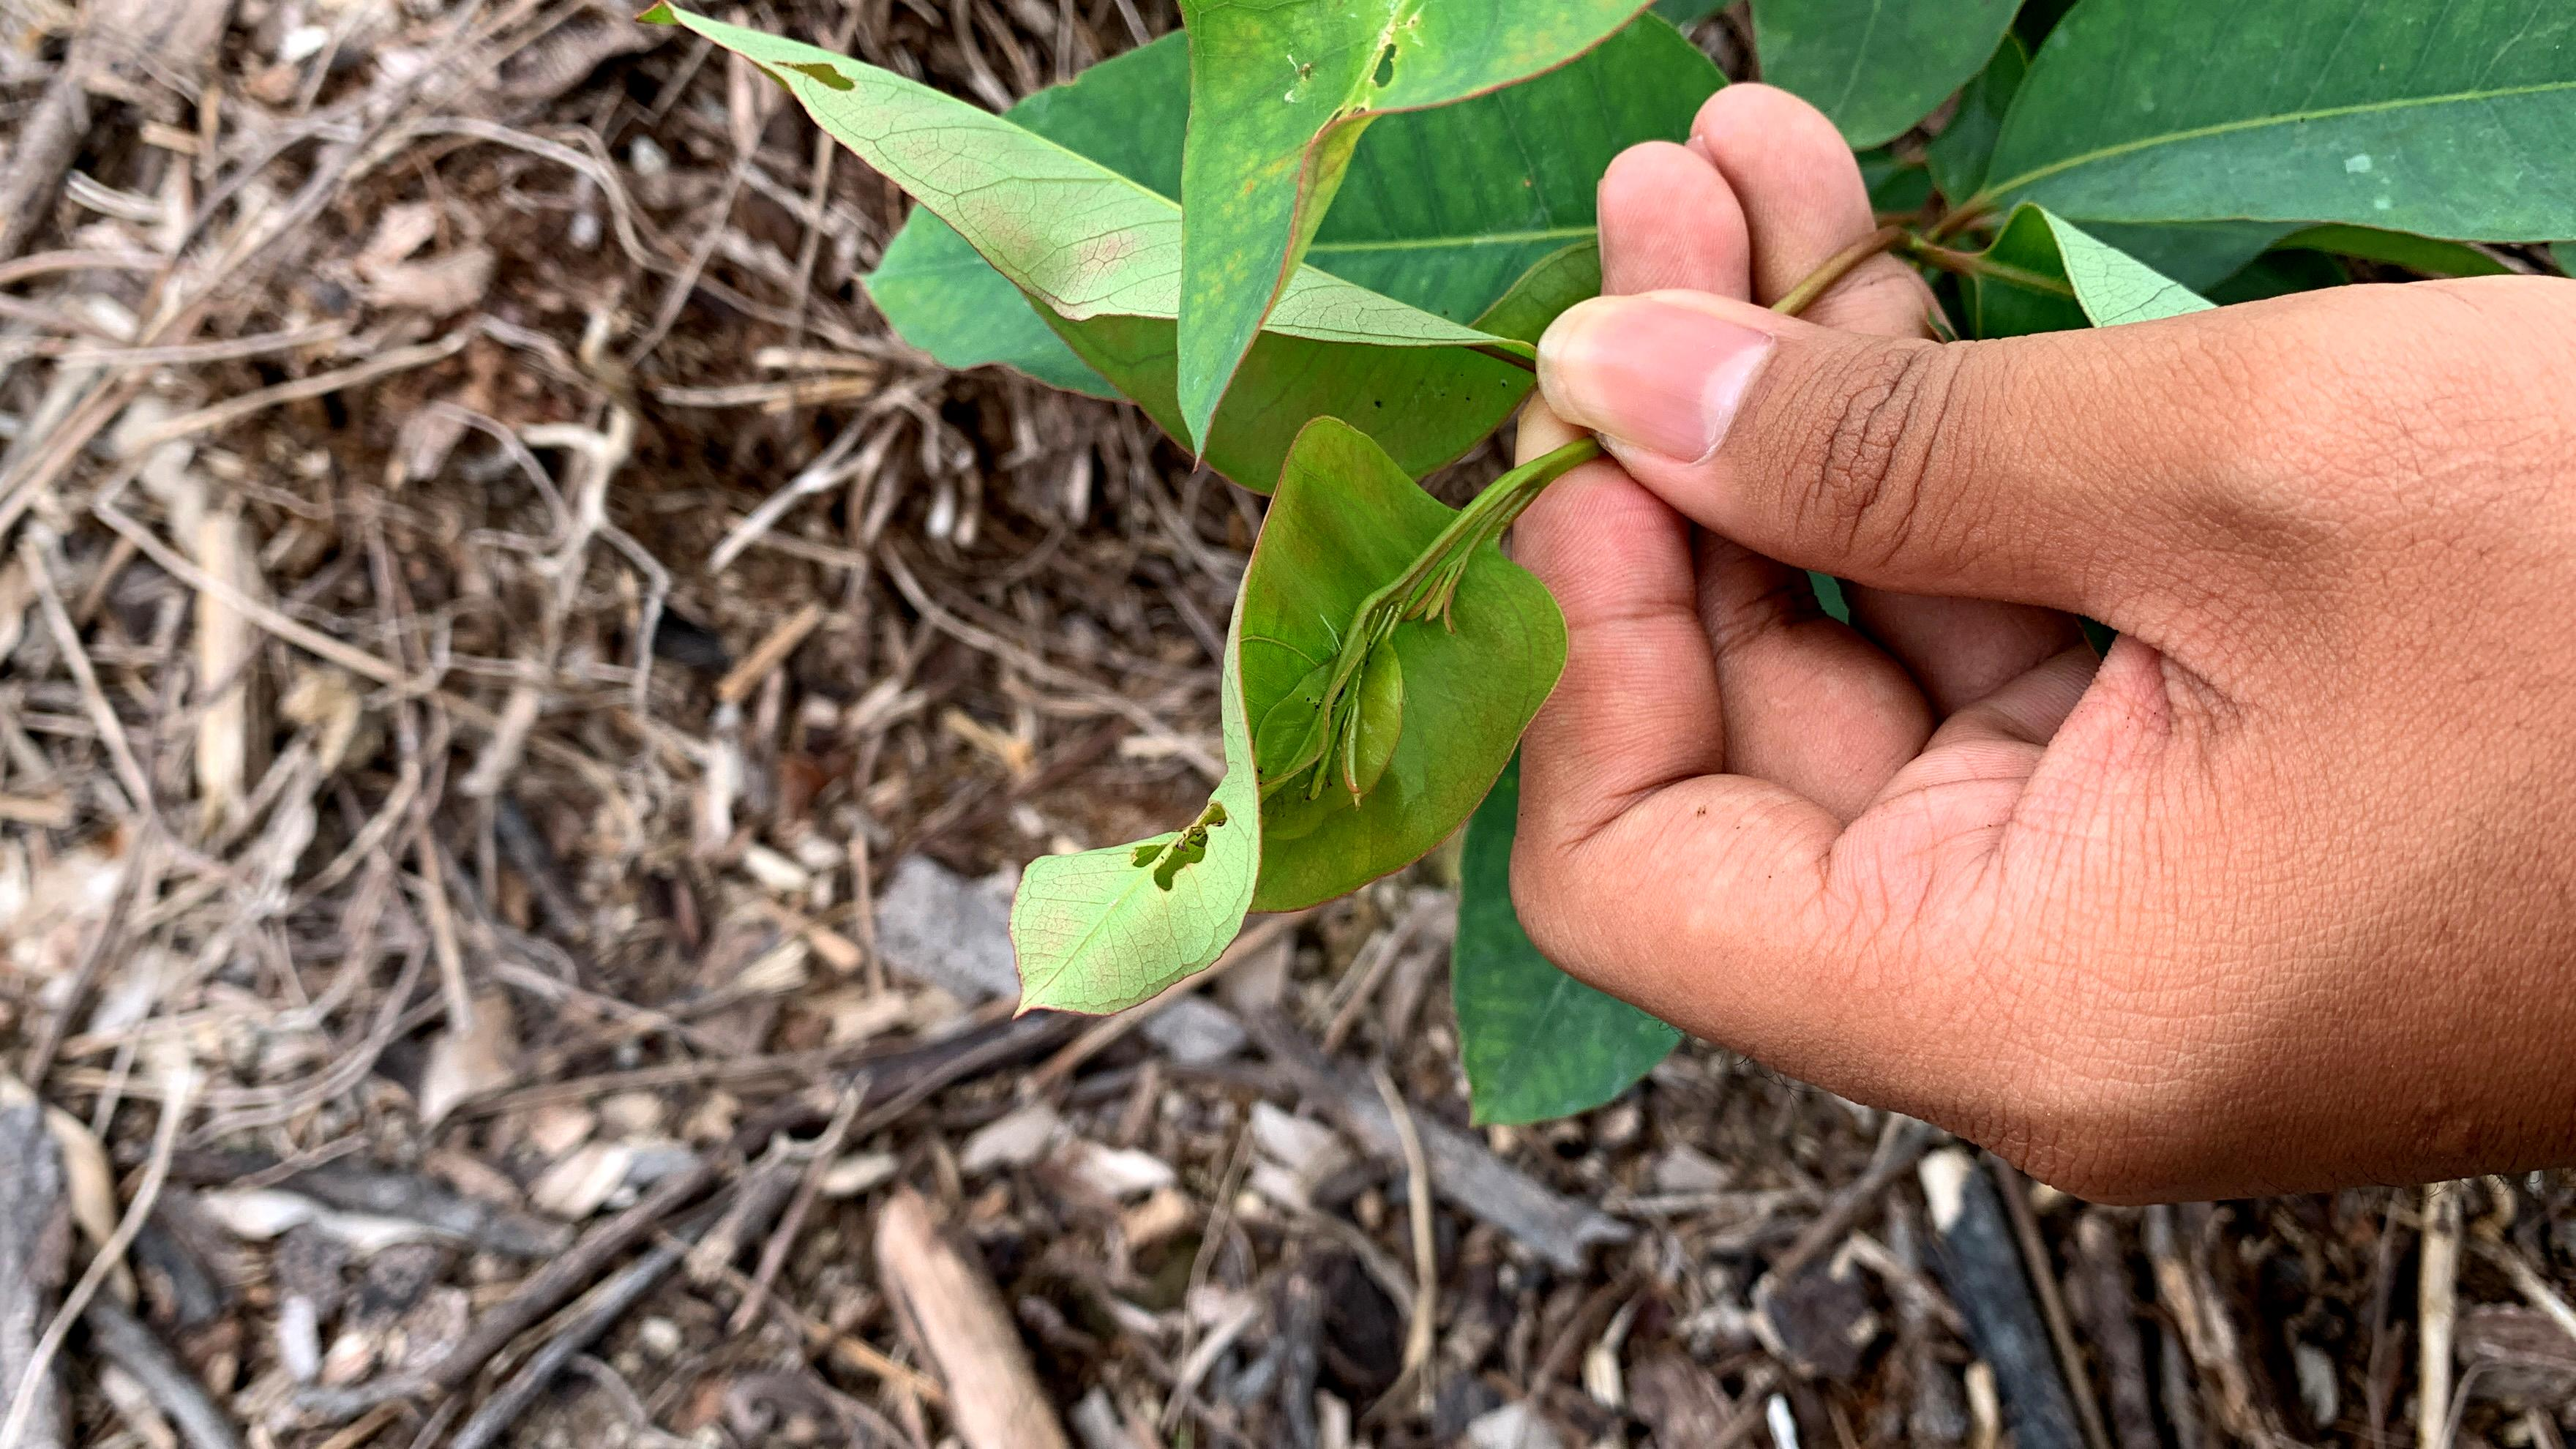Leaf Roller - Leaf: (1008, 472, 1571, 1007)
